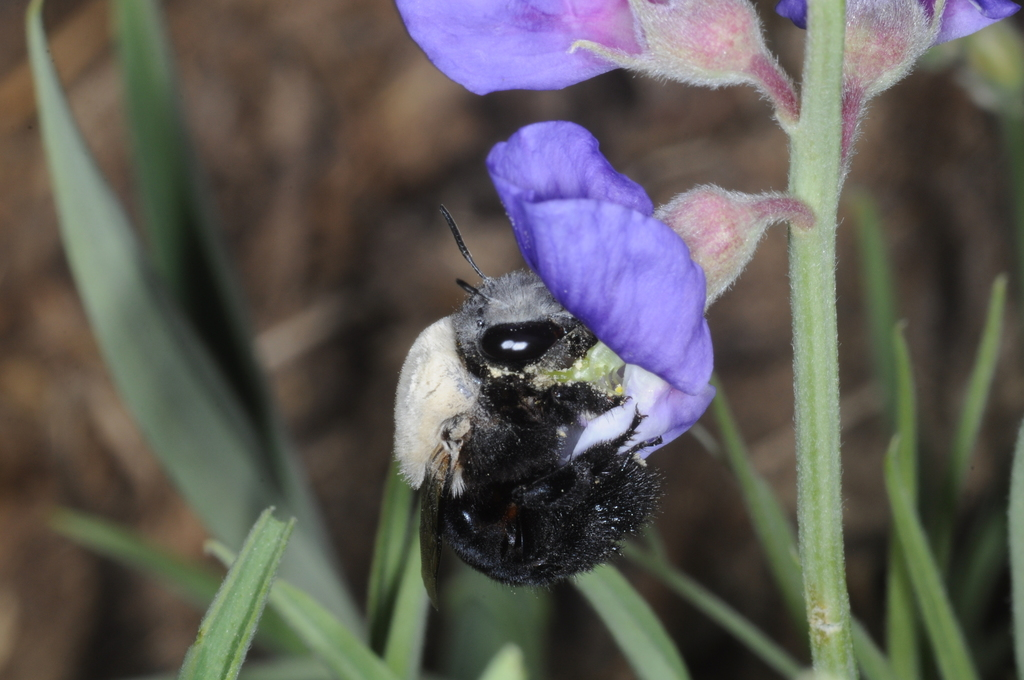not_bumblebee: (389, 203, 667, 612)
